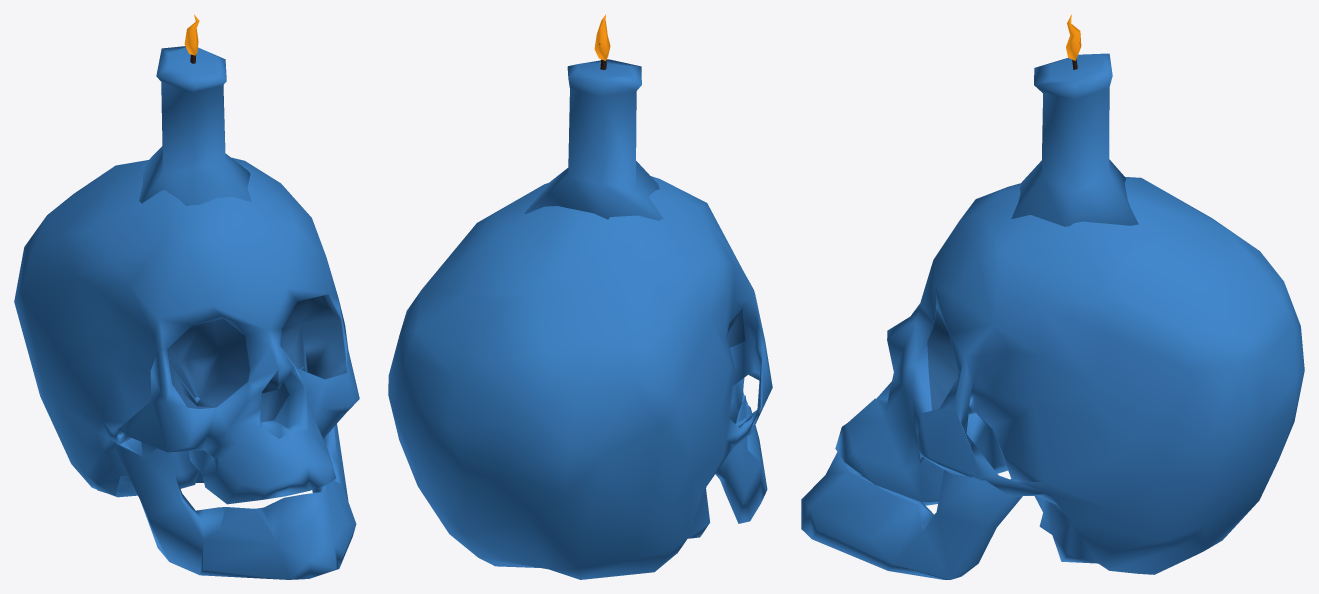
The model's file is CandleSkullShapeB.016.glb.
3 views of the same model, side by side, from view 1: azimuth 30°, elevation 25°; view 2: azimuth 150°, elevation 25°; view 3: azimuth 270°, elevation 25° (orthographic). The views are drawn at different scales.
Parts seen in each view (by area): view 1: CandleSkullShapeB.016; view 2: CandleSkullShapeB.016; view 3: CandleSkullShapeB.016.
Part boxes in pixels (left/top/right/bottom): CandleSkullShapeB.016: left=14, top=14, right=359, bottom=579; CandleSkullShapeB.016: left=388, top=14, right=772, bottom=579; CandleSkullShapeB.016: left=801, top=14, right=1304, bottom=579.
Size of the model in its own units: 0.2005 by 0.3649 by 0.3132.
Materials: 2 (2 with a texture image).
